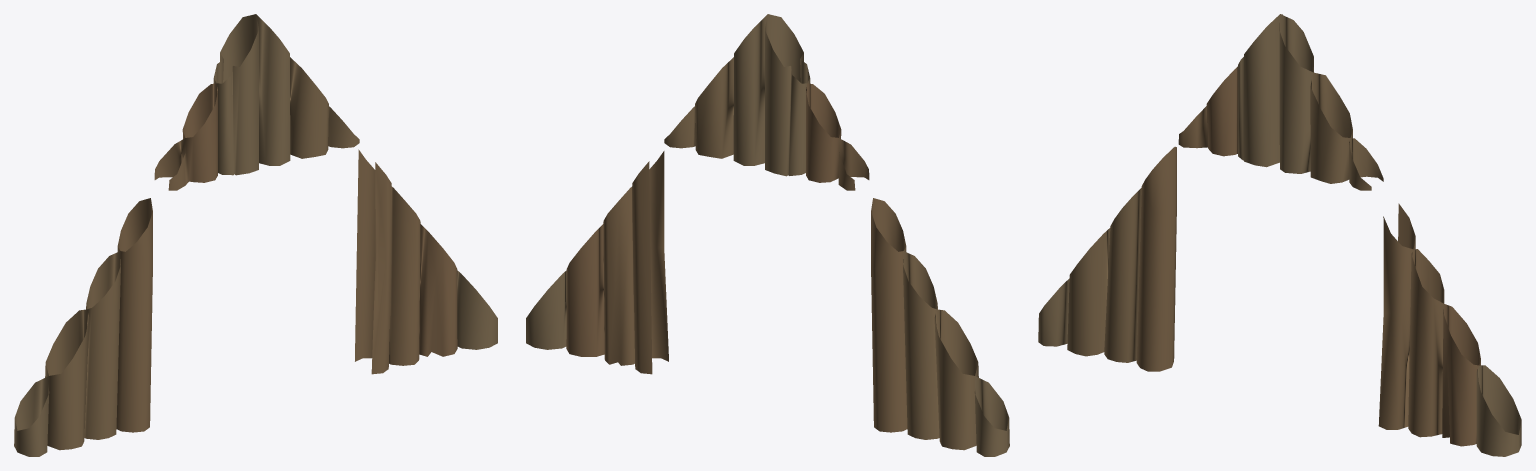
Rendered from rpgpp_ag_roof_end_01_6x5_wall_door_02d.fbx.
3 views of the same model, side by side, from view 1: azimuth 30°, elevation 25°; view 2: azimuth 150°, elevation 25°; view 3: azimuth 330°, elevation 25° (orthographic).
Visible parts, largest first — view 1: rpgpp_ag_roof_end_01_6x5_wall_door_02d; view 2: rpgpp_ag_roof_end_01_6x5_wall_door_02d; view 3: rpgpp_ag_roof_end_01_6x5_wall_door_02d.
Boxes of the visible parts, bbox=[...] form: rpgpp_ag_roof_end_01_6x5_wall_door_02d: bbox=[14, 14, 497, 456]; rpgpp_ag_roof_end_01_6x5_wall_door_02d: bbox=[526, 14, 1009, 456]; rpgpp_ag_roof_end_01_6x5_wall_door_02d: bbox=[1038, 14, 1521, 456].
Bounding box in the file's own units: 6 × 4.57 × 0.4626.
